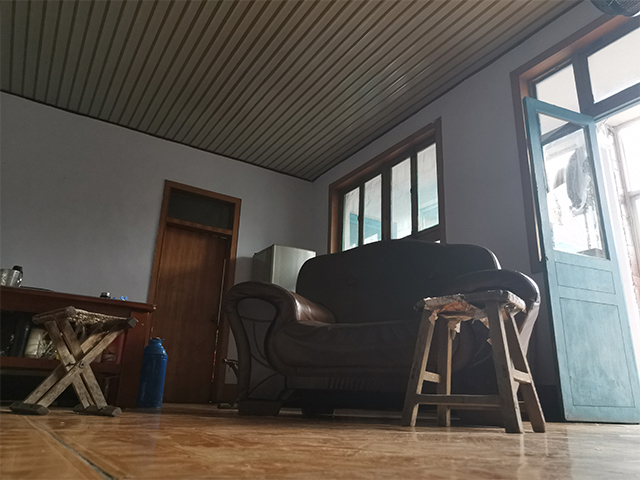sofa: (222, 237, 542, 418)
stool: (398, 287, 549, 435), (8, 305, 141, 418)
table: (1, 282, 161, 412)
